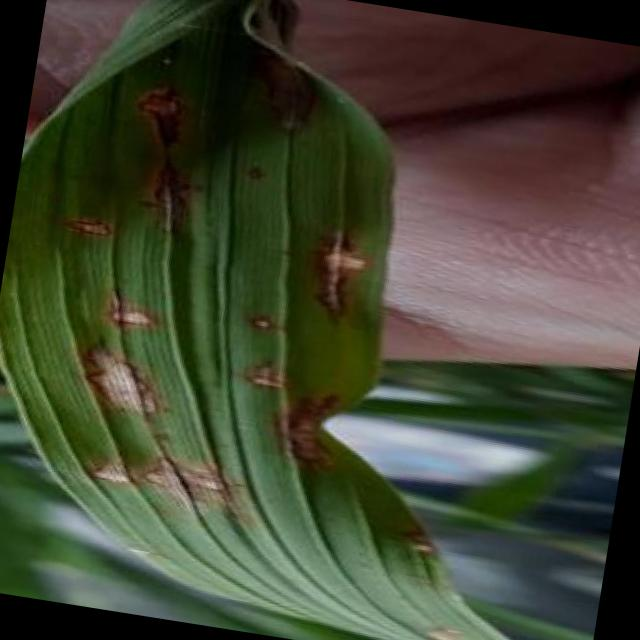Rice_Blast: (127, 438, 270, 531), (124, 138, 216, 254), (61, 327, 166, 428), (300, 194, 383, 318), (264, 374, 350, 493), (125, 56, 224, 148), (29, 194, 142, 273), (66, 428, 148, 512), (70, 275, 172, 338), (225, 296, 302, 357), (239, 348, 312, 404), (388, 508, 453, 558)
